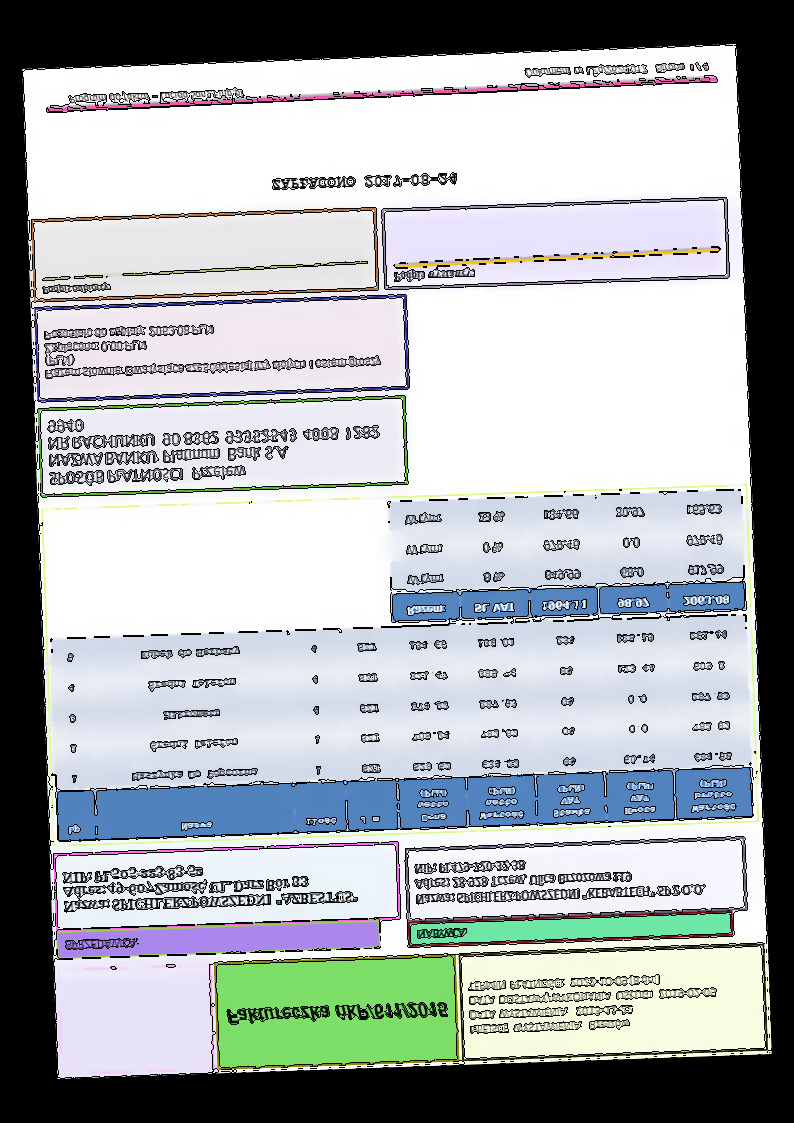Table: (48, 612, 755, 844), (384, 488, 749, 625)
TextBox: (43, 404, 387, 491), (40, 315, 388, 383), (59, 855, 360, 919), (411, 847, 711, 911), (465, 968, 724, 1040), (223, 995, 451, 1031), (519, 55, 713, 84), (269, 168, 460, 194), (64, 84, 248, 110), (389, 261, 478, 288), (60, 933, 141, 956), (35, 277, 112, 301), (413, 923, 470, 944)
